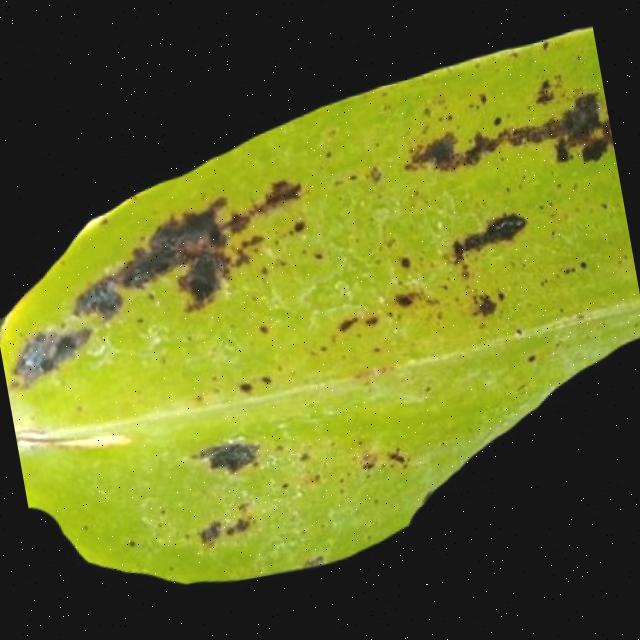mite: (176, 432, 274, 552), (540, 85, 616, 171), (3, 320, 98, 385), (169, 251, 227, 314), (66, 276, 126, 326), (195, 436, 260, 479), (483, 210, 527, 244), (575, 134, 611, 165), (466, 291, 498, 320), (193, 519, 224, 548), (235, 380, 254, 396), (487, 113, 502, 127), (522, 352, 537, 364)
spots: (0, 21, 640, 615)
